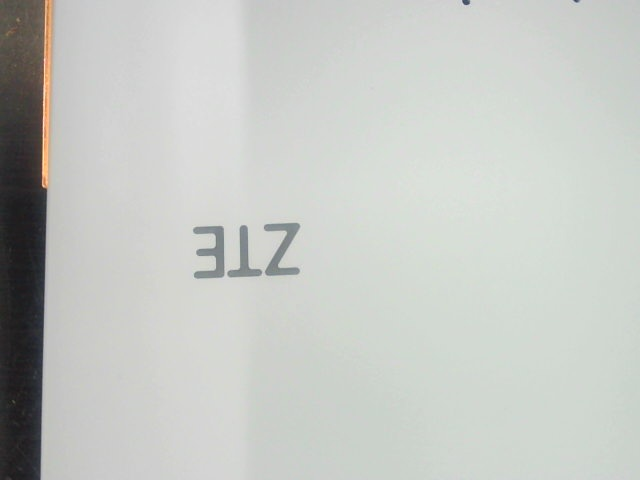AO_ZTESmall: (184, 215, 310, 288)
